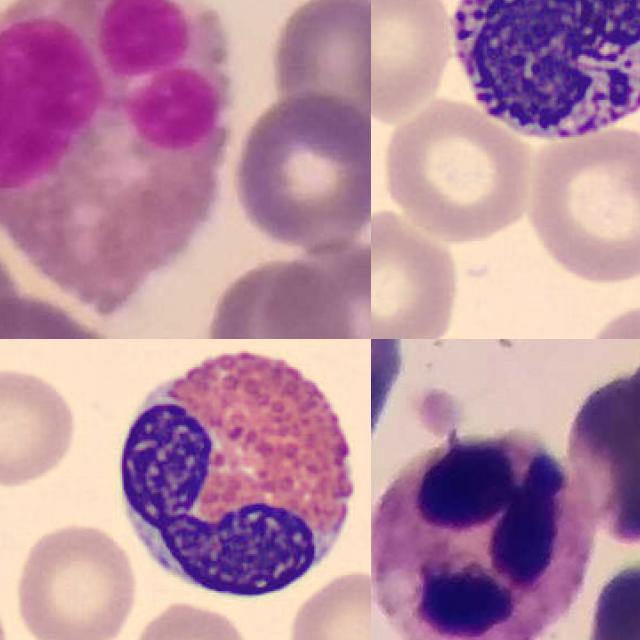Basophil: (435, 0, 640, 151)
Eosinophil: (102, 339, 370, 612), (0, 0, 228, 317)
Neutrophil: (371, 432, 590, 640)
RBC: (377, 96, 539, 243), (520, 121, 640, 288), (8, 517, 141, 640), (371, 205, 465, 339), (0, 361, 81, 490), (371, 0, 456, 122), (282, 564, 371, 640), (122, 596, 257, 640), (572, 297, 640, 339)
